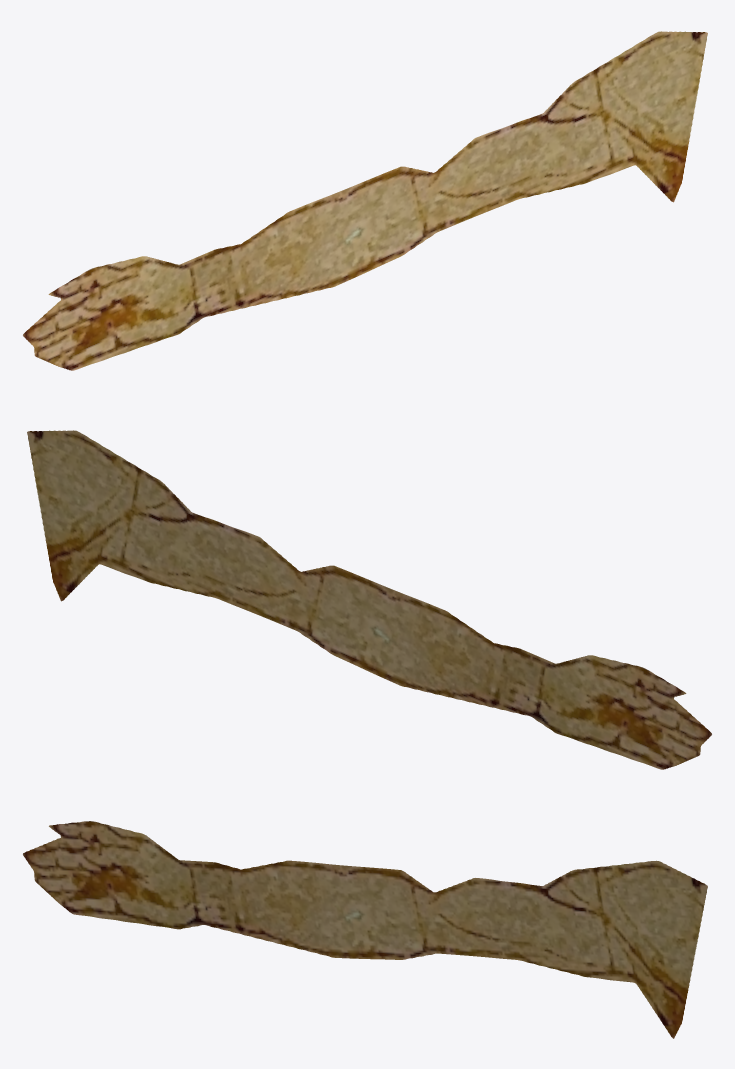
Rendered from arm_L.fbx.
The picture shows the model from 3 angles, top to bottom: view 1: azimuth 30°, elevation 25°; view 2: azimuth 150°, elevation 25°; view 3: azimuth 330°, elevation 25°; orthographic projection.
Visible parts, largest first — view 1: arm_L; view 2: arm_L; view 3: arm_L.
Part boxes in pixels (bbox=[...]): arm_L: bbox=[23, 31, 707, 370]; arm_L: bbox=[27, 430, 711, 769]; arm_L: bbox=[23, 821, 707, 1038].
Bounding box in the file's own units: 139 × 41.02 × 7.45e-05.
